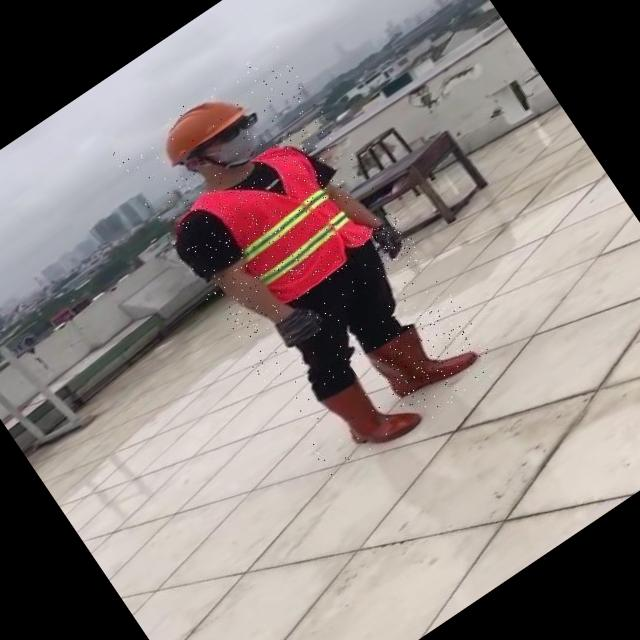hard_hat: (144, 80, 252, 172)
safety_vest: (166, 126, 382, 335)
vehicle: (110, 42, 500, 486)
work_boots: (364, 292, 494, 413), (309, 351, 428, 470)
